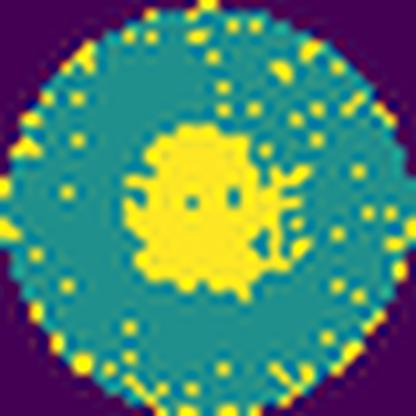Center: (127, 122, 316, 307)
